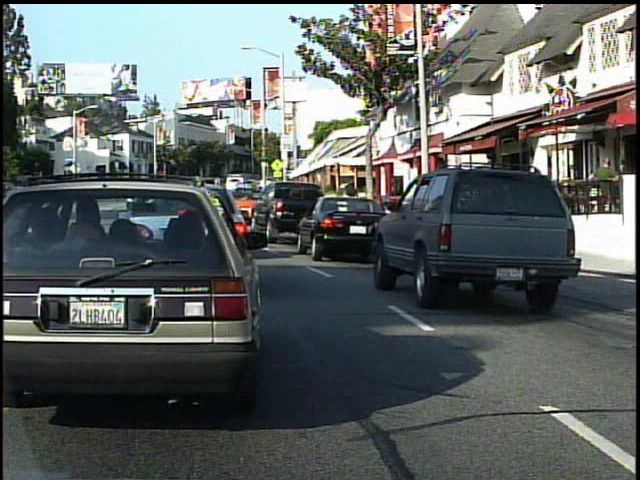person: (588, 151, 622, 234)
